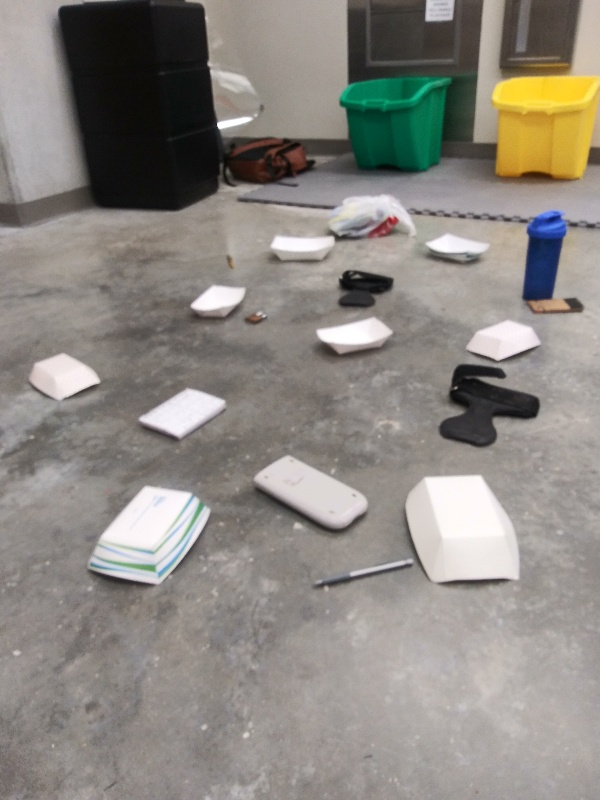plate: (76, 478, 214, 593), (400, 472, 526, 586), (24, 349, 104, 404), (460, 317, 546, 365), (311, 313, 395, 360), (186, 280, 252, 324), (262, 230, 339, 267), (418, 231, 495, 265)
